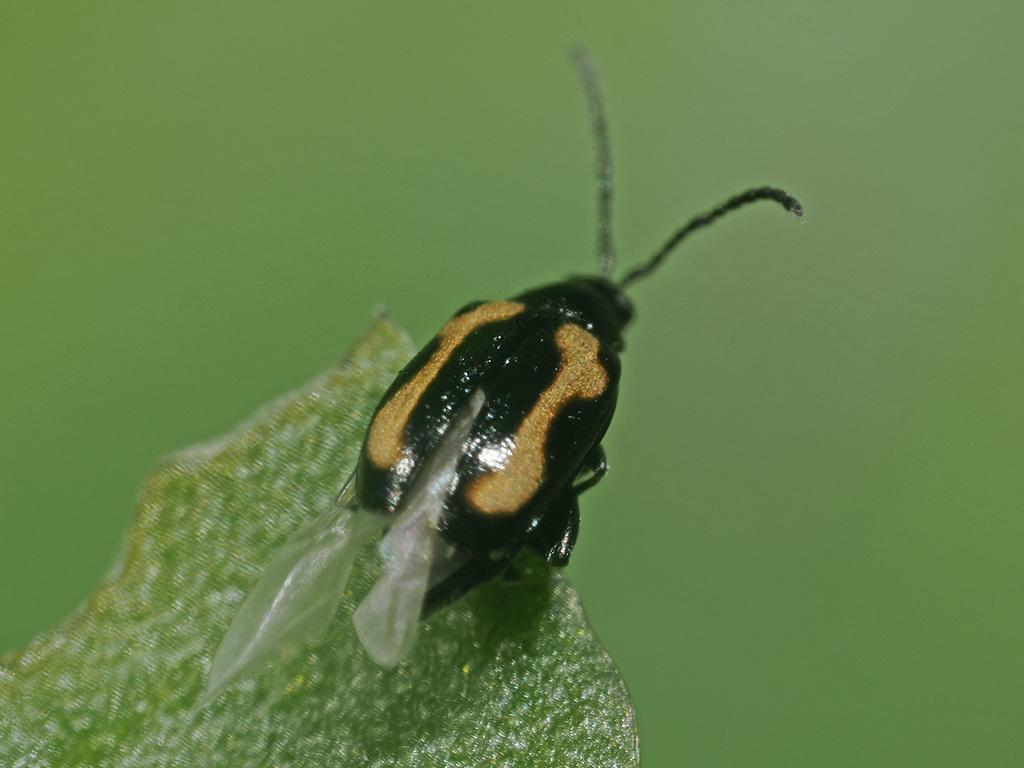flea_beetle: (191, 0, 848, 744)
